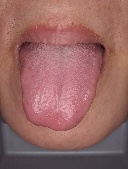tongue: (21, 49, 103, 132)
